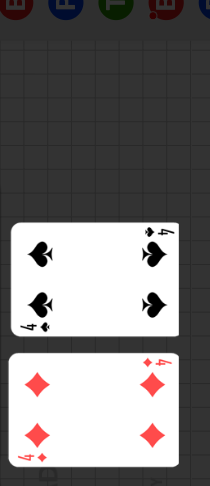4S: (18, 321, 51, 334), (142, 226, 175, 239)
